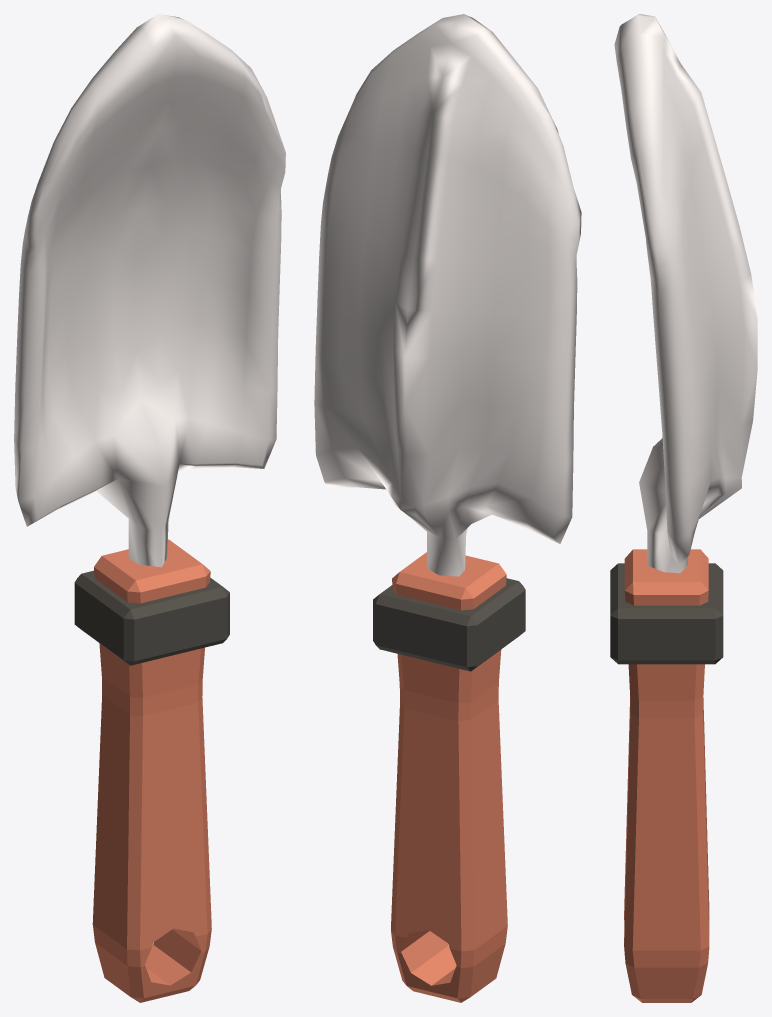
File: Shovel.glb
The picture shows the model from 3 angles, left to right: view 1: azimuth 30°, elevation 25°; view 2: azimuth 150°, elevation 25°; view 3: azimuth 270°, elevation 25°; orthographic projection.
Visible parts, largest first — view 1: Cube; view 2: Cube; view 3: Cube.
Part boxes in pixels (x1,y1,x2,y2): Cube: (14, 14, 285, 1002); Cube: (314, 14, 581, 1002); Cube: (610, 14, 757, 1002).
Bounding box in the file's own units: 0.6949 × 2.53 × 0.3465.
3 materials, 1 textured.
